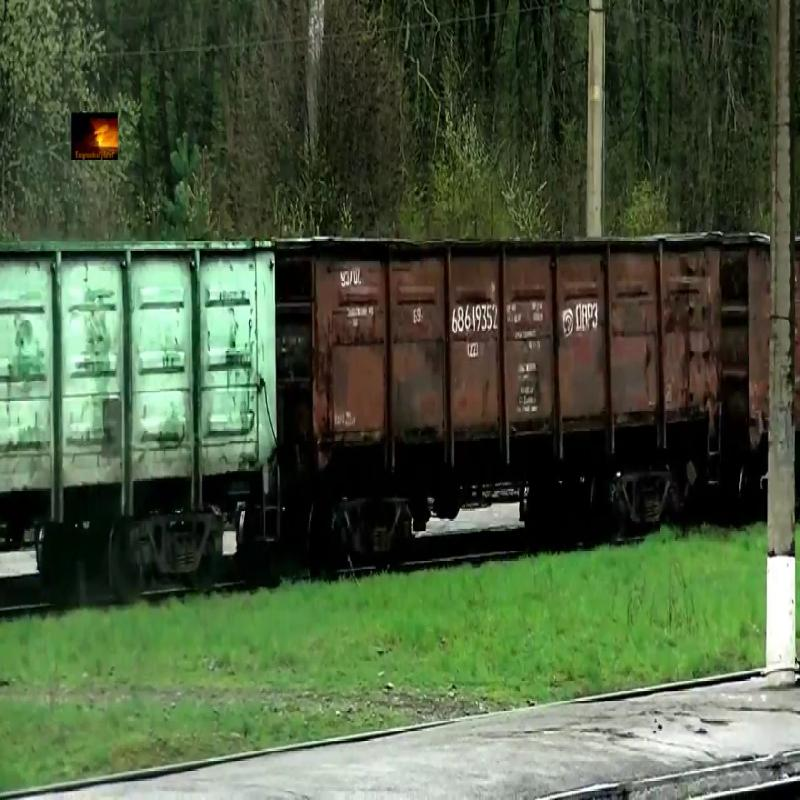train: (276, 232, 723, 476), (1, 239, 278, 528), (722, 229, 770, 463)
